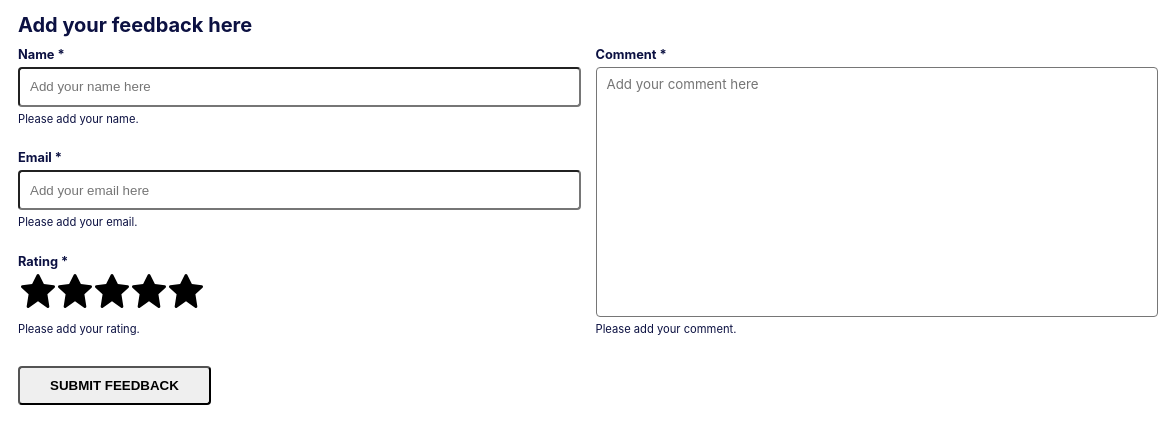
Feedback Form › shows error when email is invalid
The width and height of the screenshot is (1175, 422).
Type "john.doe" into the field labelled "Email *" at (299, 190), box [18,170,580,210]
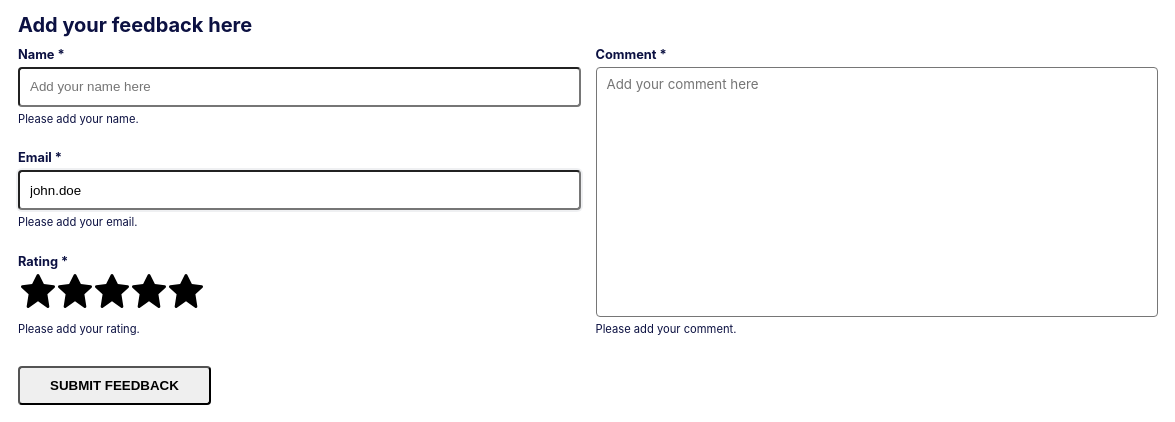
Leave the field labelled "Email *", box [18,170,580,210]
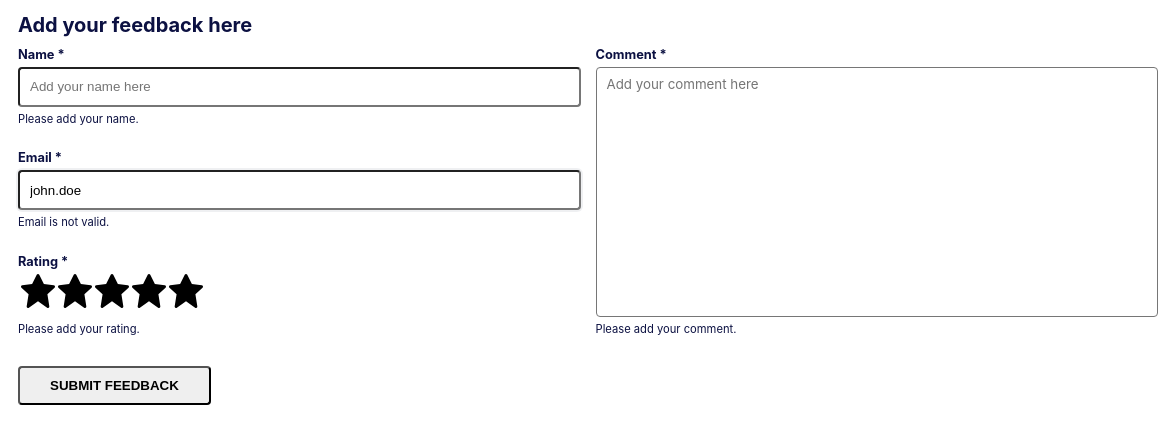
Expected: the text "Email is not valid." is shown, [18,215,109,229]
